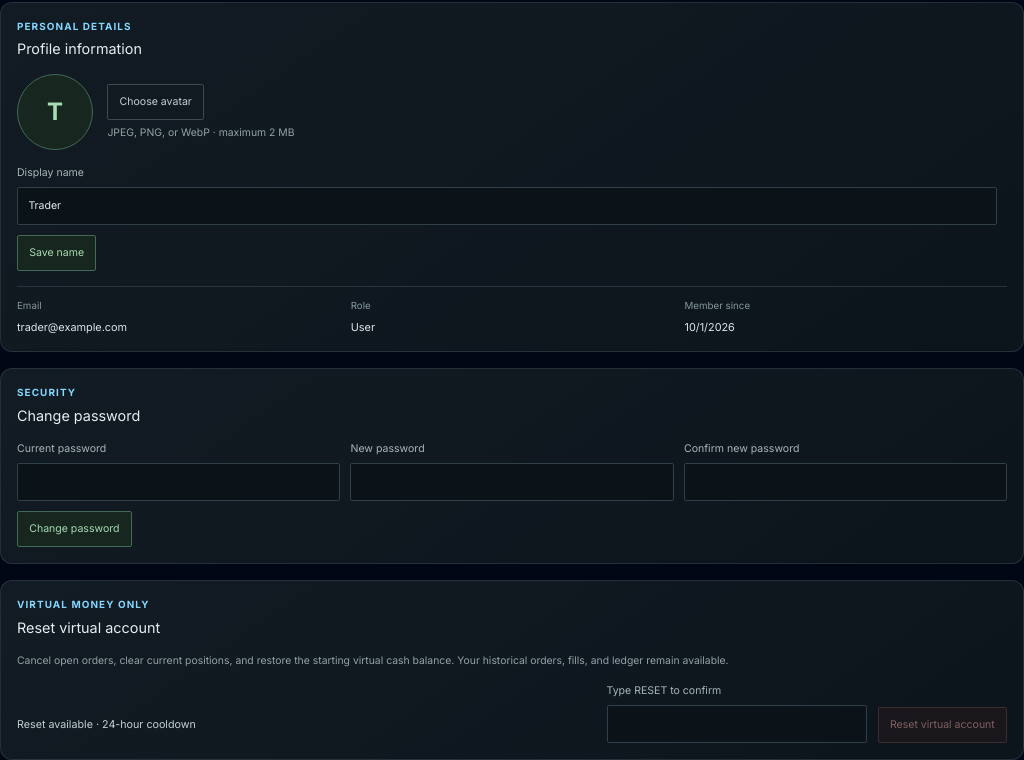
Scenario: profile workspace › requires typed and browser confirmation before resetting the virtual account
The image size is (1024, 760).
(page scrolled)
Check: the text "Reset available · 24-hour cooldown" is shown, box top-left (17, 718), bottom-right (196, 731)
Type "RESET" into the field labelled "Type RESET to confirm" at (736, 724), box top-left (606, 705), bottom-right (866, 743)
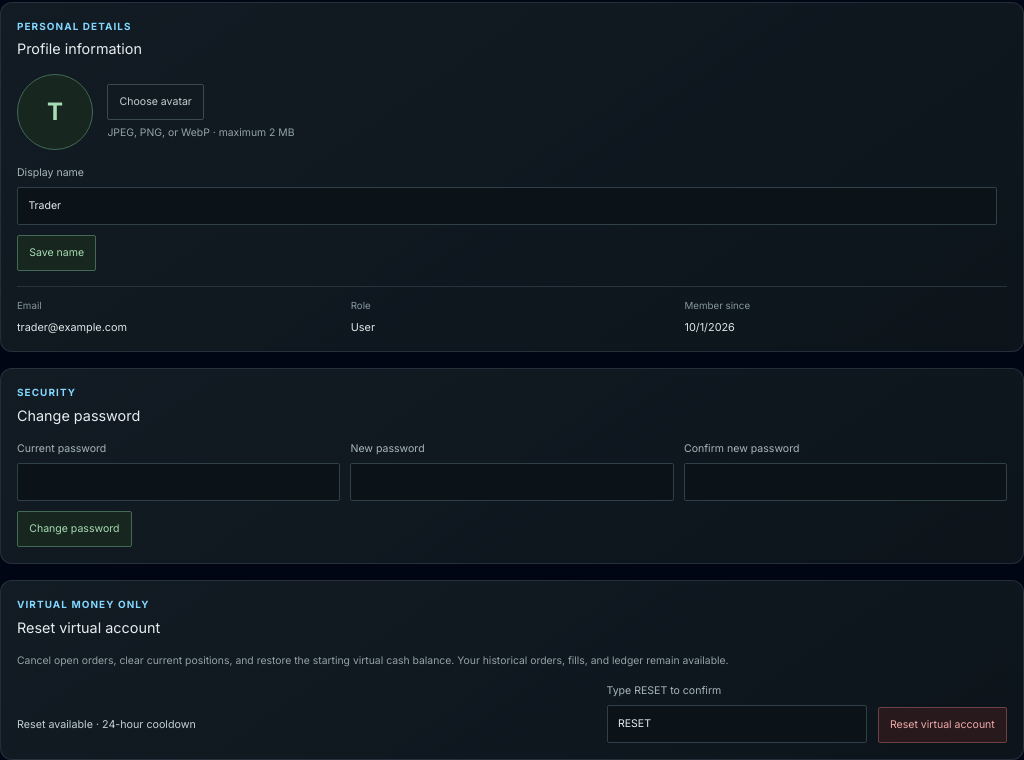
Click the button "Reset virtual account" at (942, 725), box top-left (878, 707), bottom-right (1007, 743)
(page scrolled)
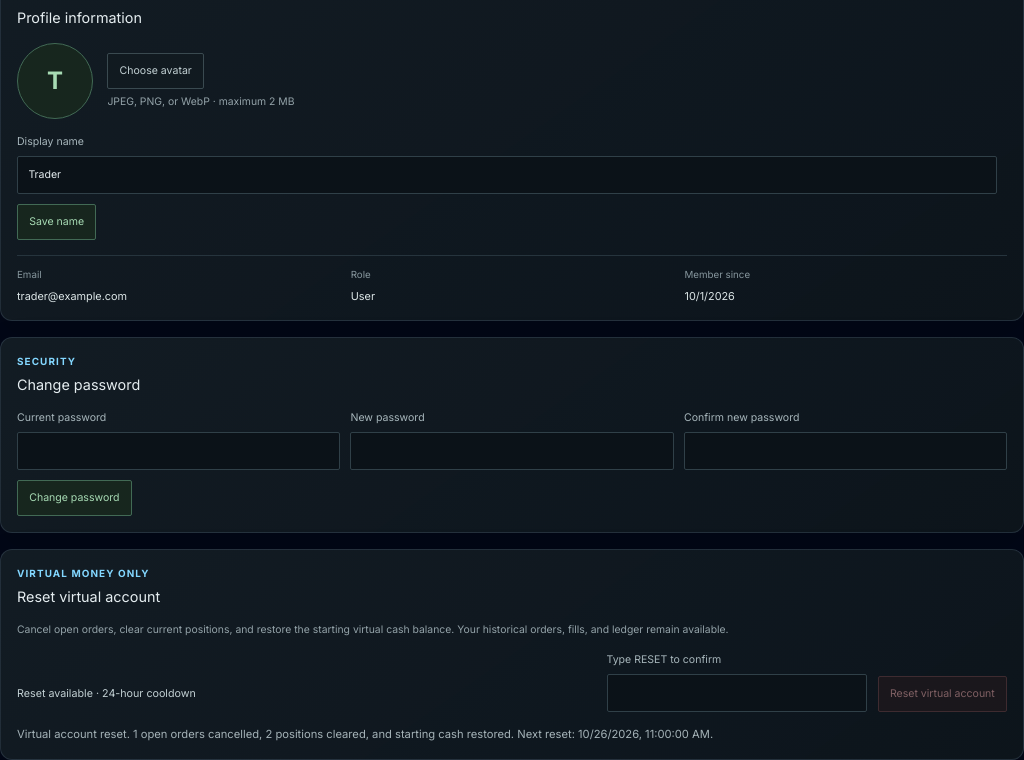
Check: the text "1 open orders cancelled, 2 positions cleared" is shown, box top-left (17, 727), bottom-right (713, 741)
